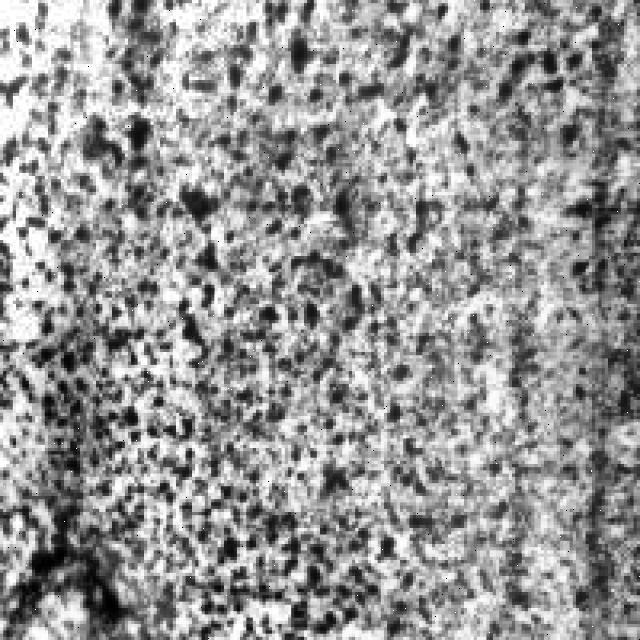Rolled_in_Scale: (6, 3, 461, 608)
